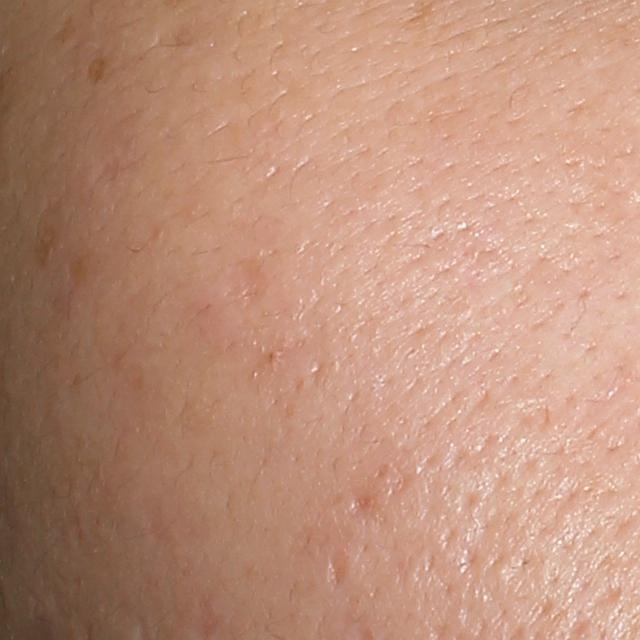atrophic_scar: (221, 254, 266, 316), (325, 547, 353, 591), (348, 487, 381, 516)
melasma: (50, 16, 76, 42), (85, 55, 104, 84)
